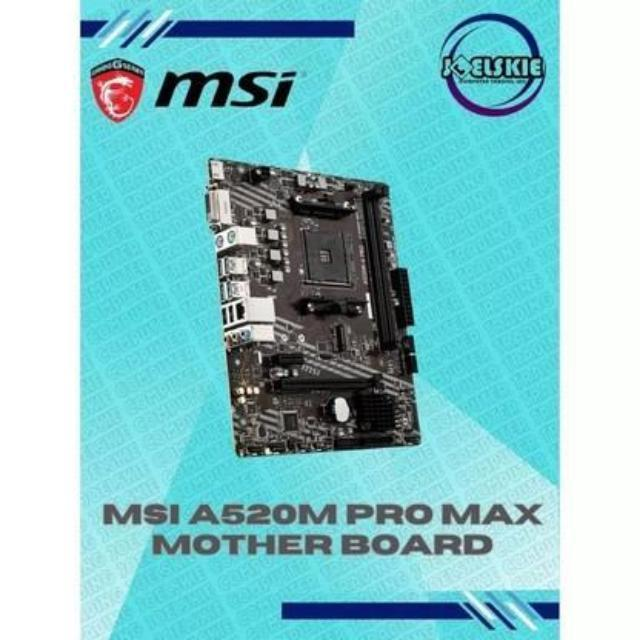Mainboard: (197, 152, 426, 474)
